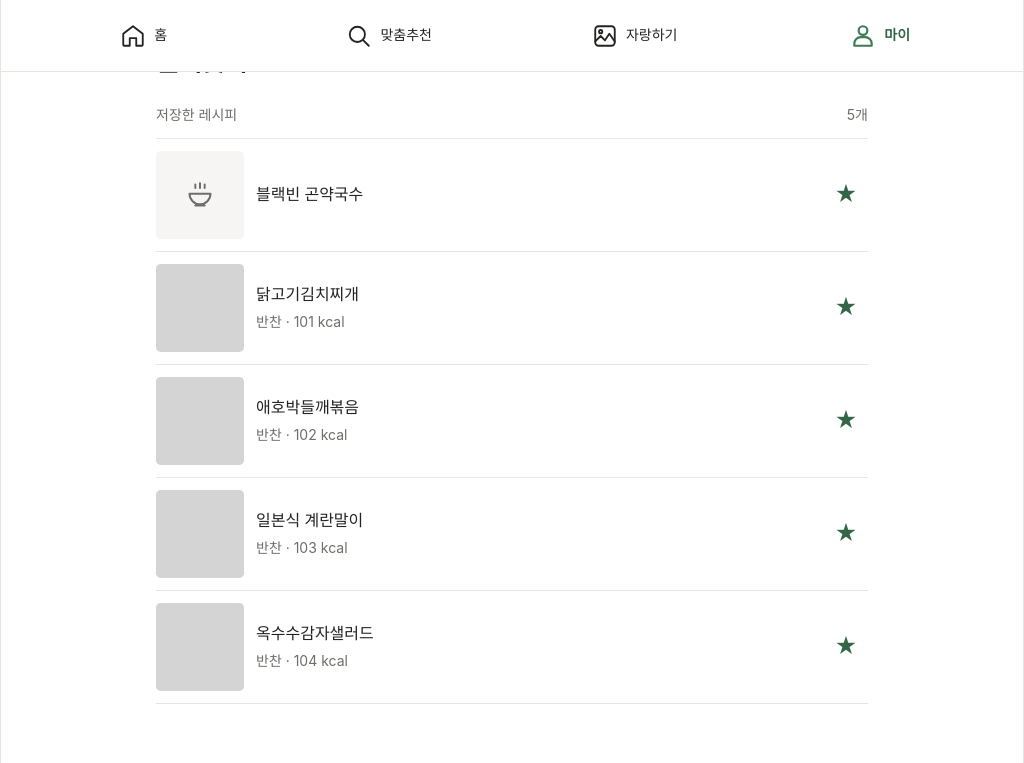
Test: 즐겨찾기 미리보기와 전체 목록 › 전체 화면에서 해제와 되돌리기를 지원한다
(page scrolled)
Click the button named "즐겨찾기 해제: 옥수수감자샐러드" at (846, 647), box [824,625,868,669]
(page scrolled)
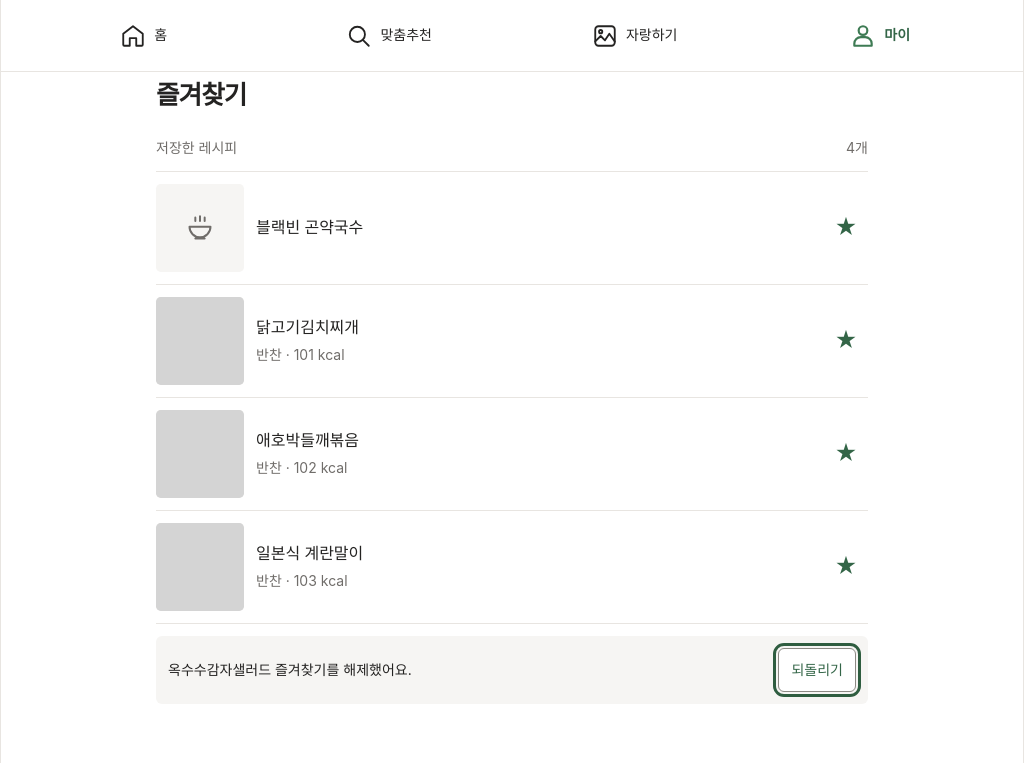
Expected: the number of list items is 4, [156,171,868,285]; [156,285,868,398]; [156,398,868,511]; [156,511,868,624]
Click the button "되돌리기" at (817, 670), box [778,648,856,692]
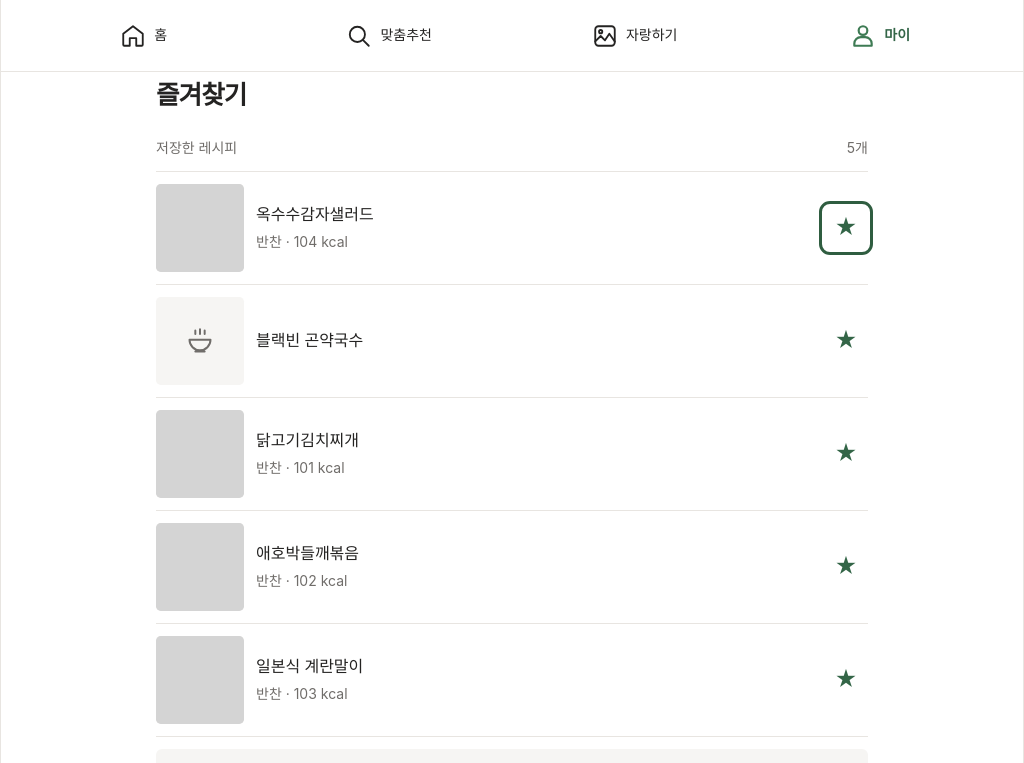
Expected: the number of list items is 5, [156,171,868,285]; [156,285,868,398]; [156,398,868,511]; [156,511,868,624]; [156,624,868,737]
